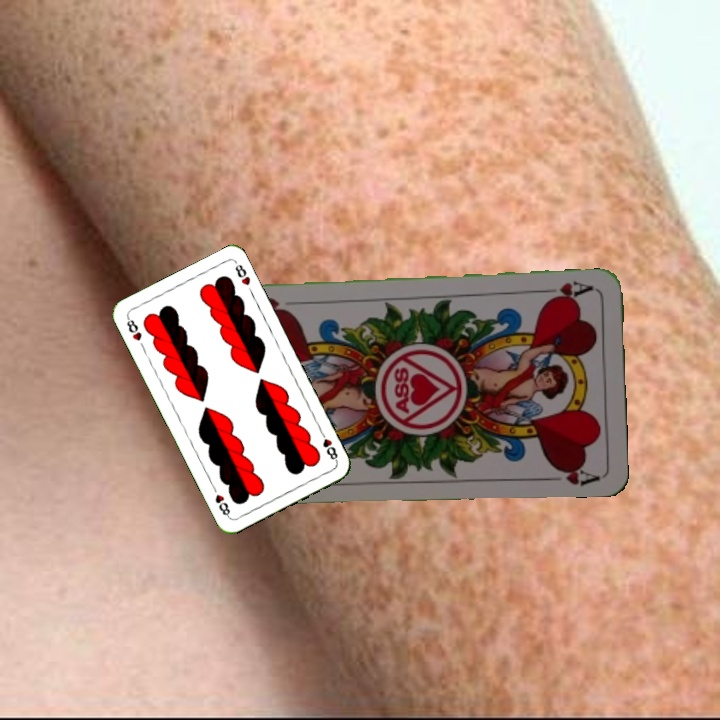H8: (316, 427, 340, 464), (123, 313, 144, 344)
HA: (538, 277, 596, 303)
